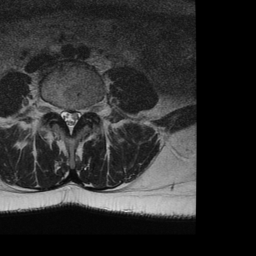CCS_normal: (66, 102, 74, 141)
LFS_normal: (81, 101, 90, 121)
LLS_normal: (74, 102, 81, 126)
RFS_normal: (52, 98, 59, 120)
RLS_normal: (59, 102, 66, 124)
